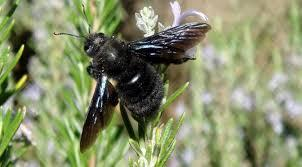Xylocopa: (57, 8, 205, 147)
